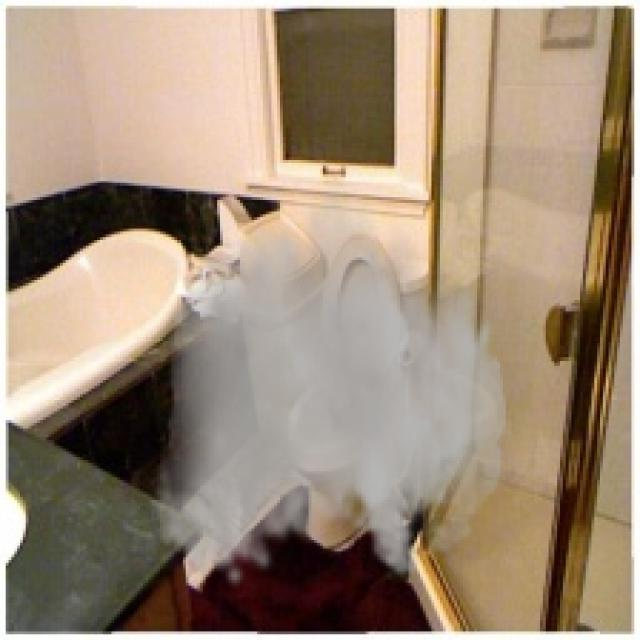smoke: (154, 172, 506, 588)
